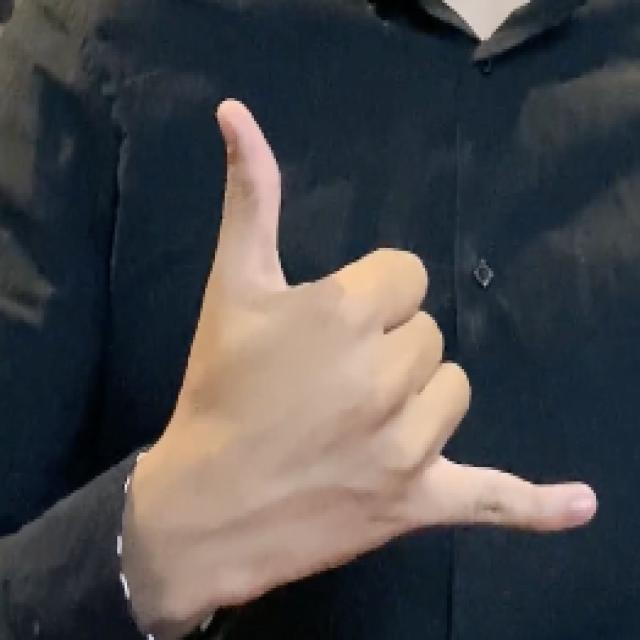Y: (160, 93, 600, 581)
